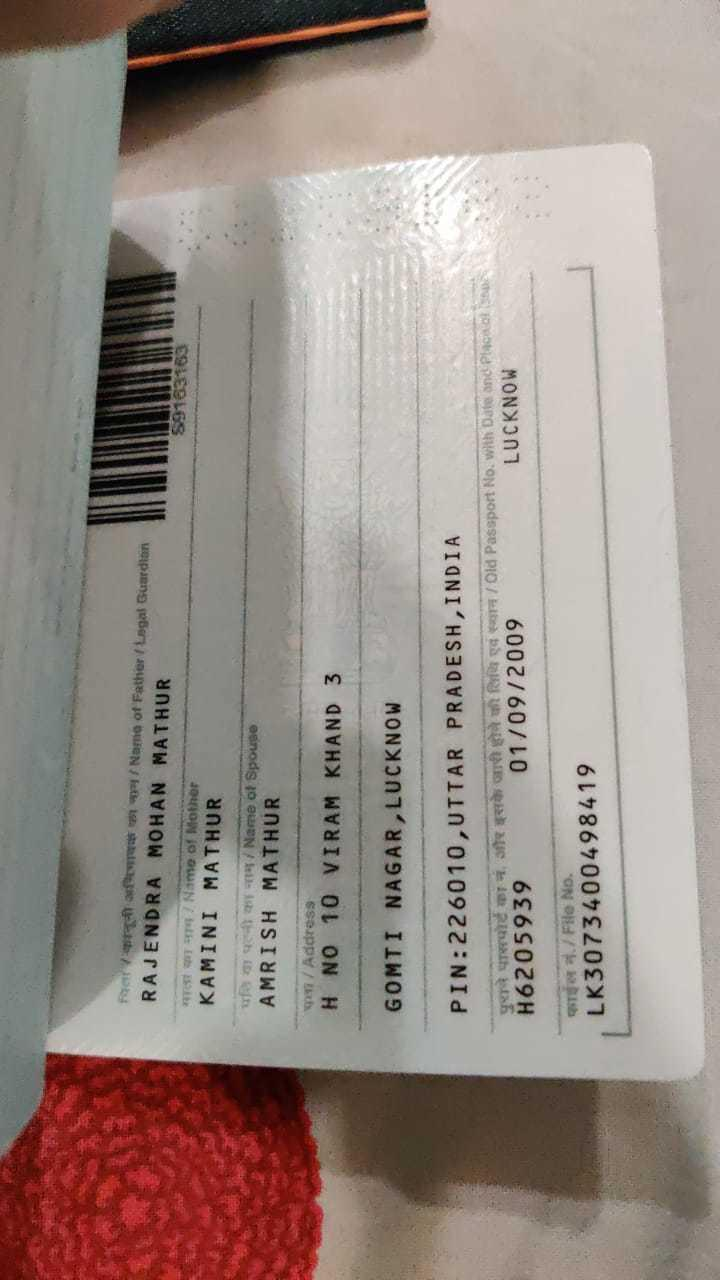File_no: (573, 756, 614, 1034)
address: (311, 520, 479, 1041)
father_name: (135, 640, 189, 1019)
mother_name: (190, 788, 237, 1014)
old_passport_details: (488, 345, 554, 1036)
passport_no: (169, 339, 203, 454)
spouse_name: (250, 782, 299, 1034)
